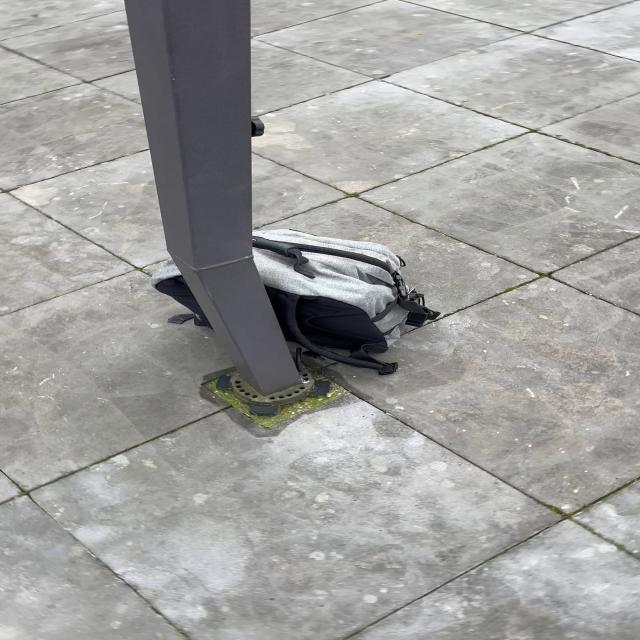backpack: (147, 225, 442, 362)
